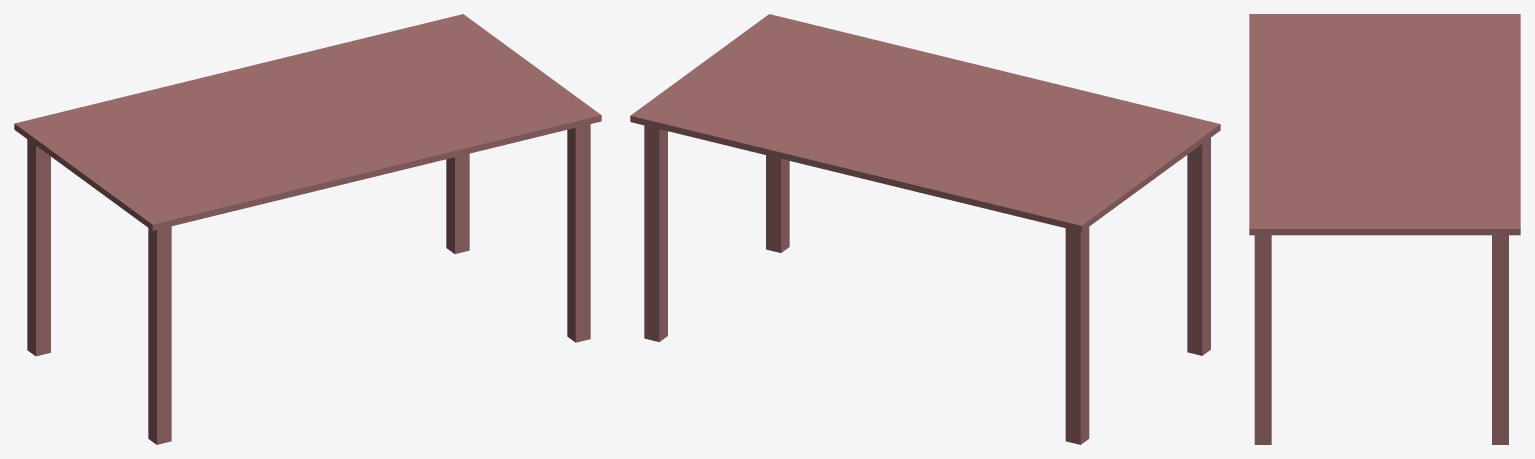
The model's file is table.fbx.
3 views of the same model, side by side, from view 1: azimuth 30°, elevation 25°; view 2: azimuth 150°, elevation 25°; view 3: azimuth 270°, elevation 25° (orthographic). The views are drawn at different scales.
Parts seen in each view (by area): view 1: Plane.003, Cube, Cube.001, Cube.002, Cube.003; view 2: Plane.003, Cube.002, Cube.003, Cube, Cube.001; view 3: Plane.003, Cube.001, Cube.003.
Part boxes in pixels (box(x1,y1,x2,y2)): Plane.003: box(14, 14, 601, 230); Cube: box(148, 226, 171, 444); Cube.001: box(567, 124, 590, 342); Cube.002: box(27, 139, 50, 356); Cube.003: box(446, 153, 469, 253); Plane.003: box(630, 14, 1220, 231); Cube.002: box(1065, 227, 1089, 444); Cube.003: box(644, 125, 667, 341); Cube: box(1187, 138, 1210, 355); Cube.001: box(766, 155, 789, 252); Plane.003: box(1249, 14, 1520, 235); Cube.001: box(1254, 235, 1271, 444); Cube.003: box(1492, 235, 1508, 444).
Bounding box in the file's own units: 150 × 71.51 × 80.
